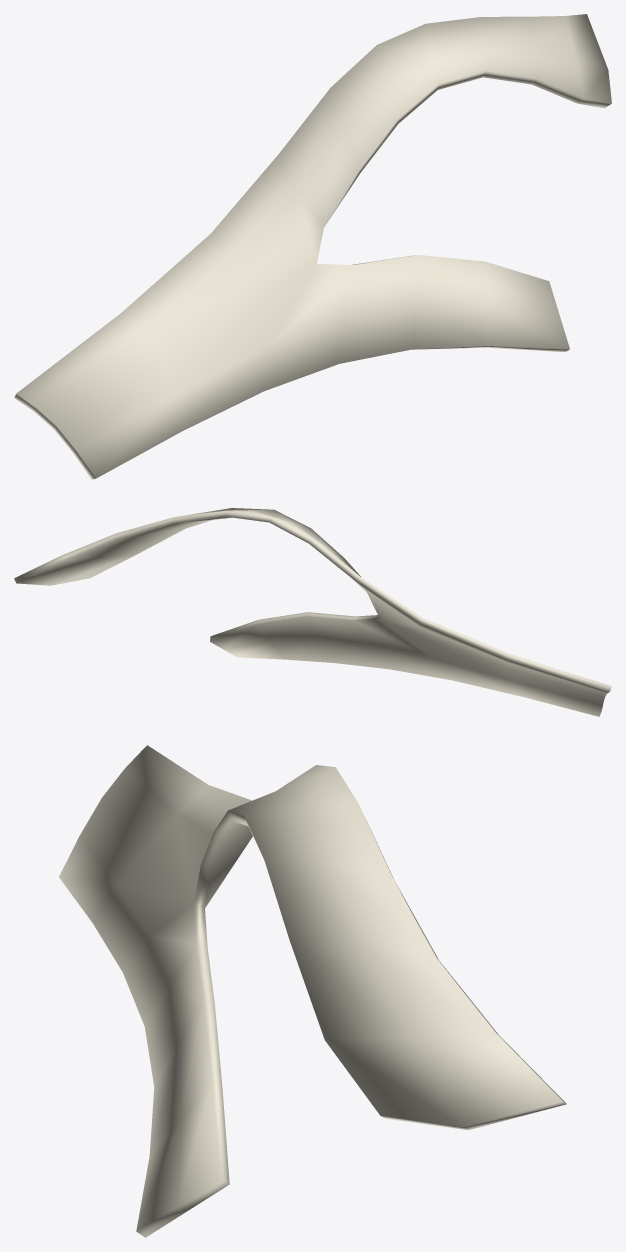
3 renders of one model, top to bottom at view 1: azimuth 30°, elevation 25°; view 2: azimuth 150°, elevation 25°; view 3: azimuth 270°, elevation 25°, orthographic. The views are drawn at different scales.
Visible parts, largest first — view 1: ZA_44058d7c44286a80; view 2: ZA_44058d7c44286a80; view 3: ZA_44058d7c44286a80.
Boxes of the visible parts, <box> form: ZA_44058d7c44286a80: <box>14,14,611,479</box>; ZA_44058d7c44286a80: <box>14,508,611,716</box>; ZA_44058d7c44286a80: <box>59,745,566,1237</box>.
Size of the model in its own units: 0.0466 by 0.0177 by 0.0207.
